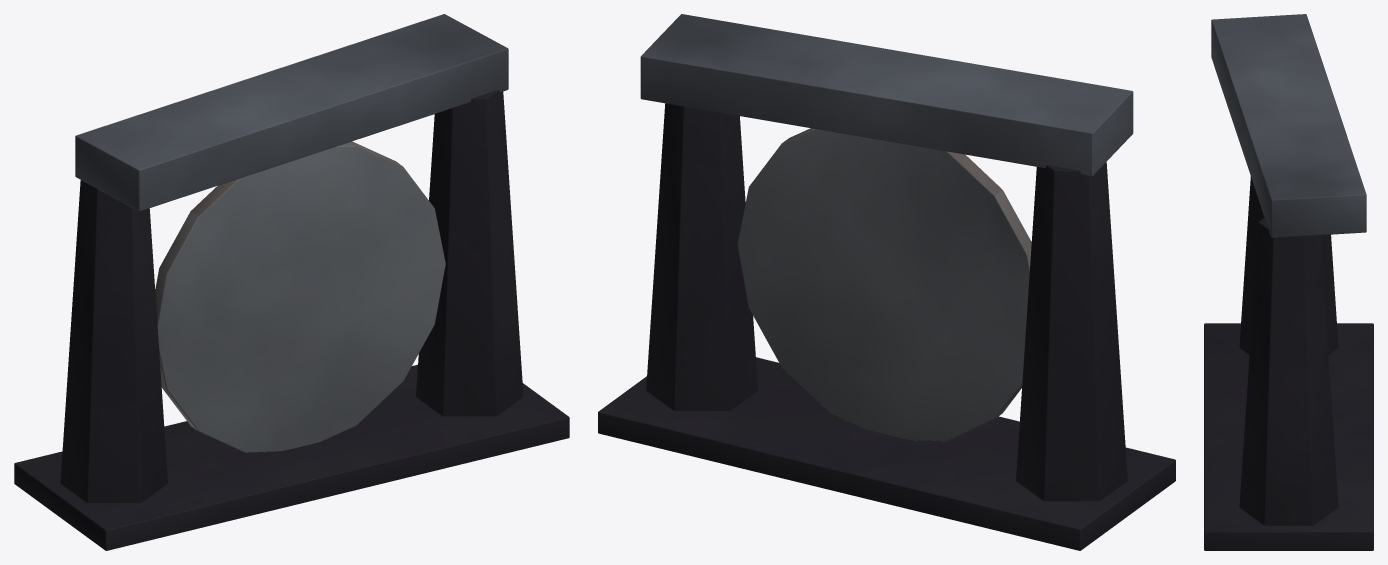
File: building_shadowed_gate.fbx
3 renders of one model, left to right at view 1: azimuth 30°, elevation 25°; view 2: azimuth 150°, elevation 25°; view 3: azimuth 270°, elevation 25°, orthographic. The views are drawn at different scales.
Visible parts, largest first — view 1: building_shadowed_gate; view 2: building_shadowed_gate; view 3: building_shadowed_gate.
Boxes of the visible parts, x1=… form: building_shadowed_gate: x1=14, y1=14, x2=569, y2=550; building_shadowed_gate: x1=598, y1=14, x2=1175, y2=550; building_shadowed_gate: x1=1204, y1=14, x2=1373, y2=550.
Size of the model in its own units: 6.4 by 4.87 by 2.2.
